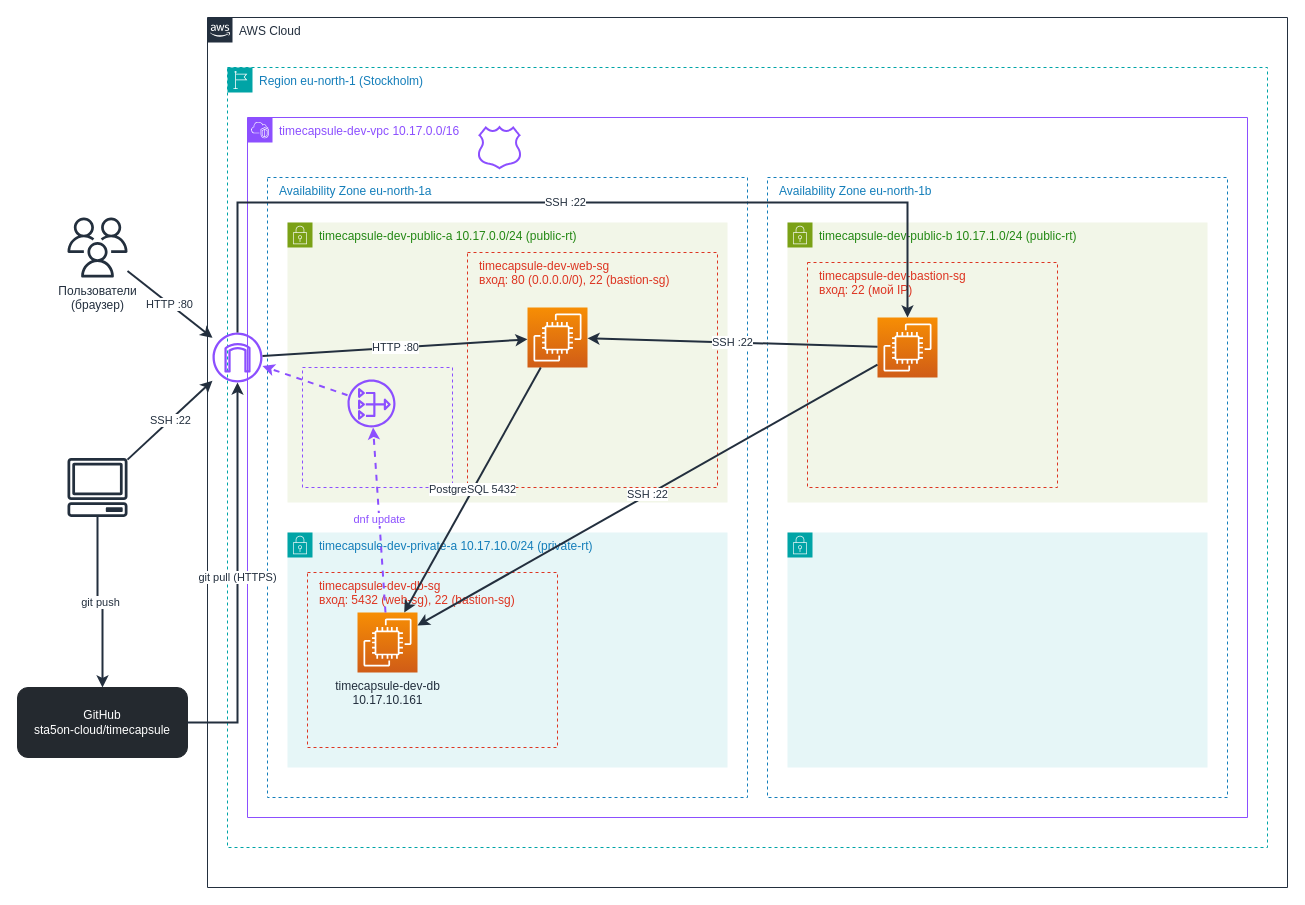
Some shapes in this 1305 by 905 pixel diagram are drawn without their labels. The centre of each missing label's shape, as x and y in pixels:
Private hosted zone timecapsule.internal db.timecapsule.internal → 10.17.10.161: pixel 499 147
timecapsule-dev-app Elastic IP timecapsule-dev-app-eip: pixel 557 337
timecapsule-dev-bastion: pixel 907 347
timecapsule-dev-igw: pixel 237 357
timecapsule-dev-nat-a (временный): pixel 371 403
timecapsule-dev-private-b 10.17.11.0/24 (private-rt): pixel 997 650
Ваш компьютер (git, ssh): pixel 97 487
